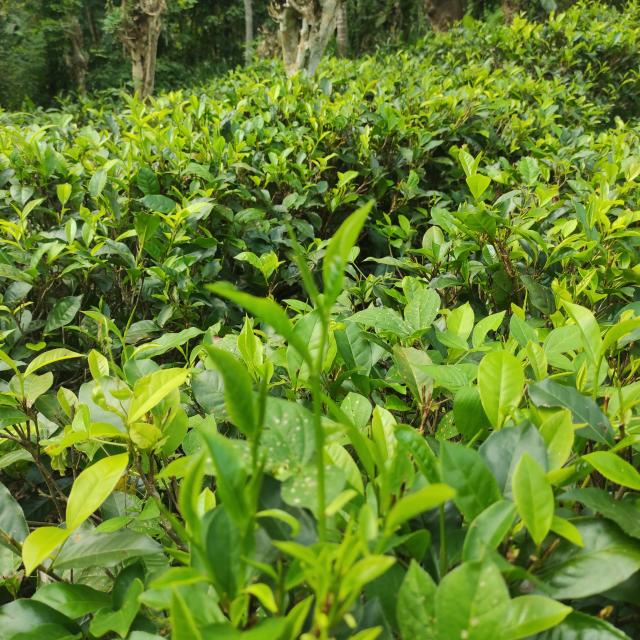unopened_leaf: (283, 208, 337, 336), (240, 348, 278, 460)
